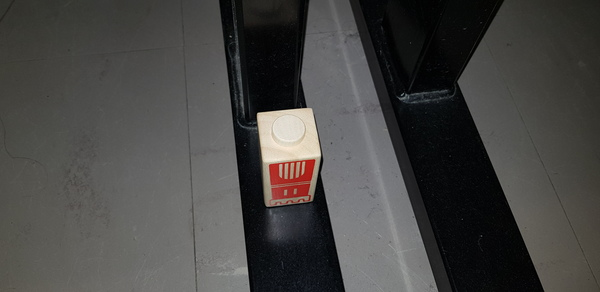tourRouge: (256, 111, 325, 208)
